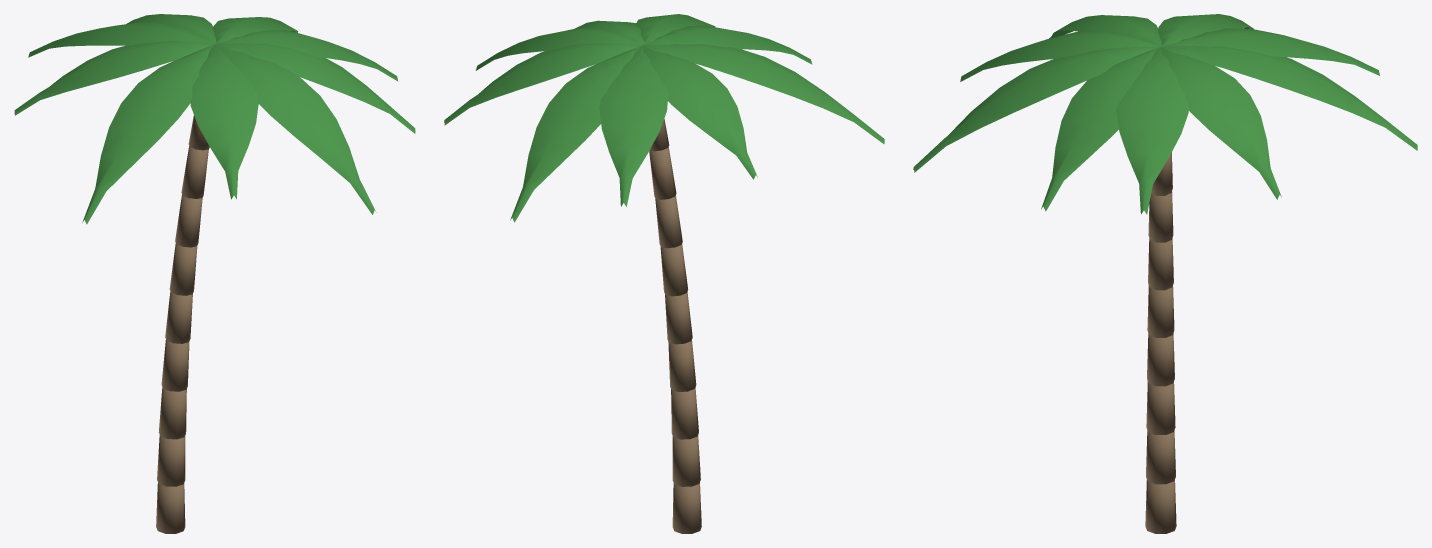
File: palm.glb
3 renders of one model, left to right at view 1: azimuth 30°, elevation 25°; view 2: azimuth 150°, elevation 25°; view 3: azimuth 270°, elevation 25°, orthographic. The views are drawn at different scales.
Visible parts, largest first — view 1: Palm; view 2: Palm; view 3: Palm.
Boxes of the visible parts, x1,y1,x2,y2 form: Palm: (14,14,415,533); Palm: (444,14,884,533); Palm: (913,14,1417,533).
Size of the model in its own units: 7.28 by 9.13 by 8.25.
